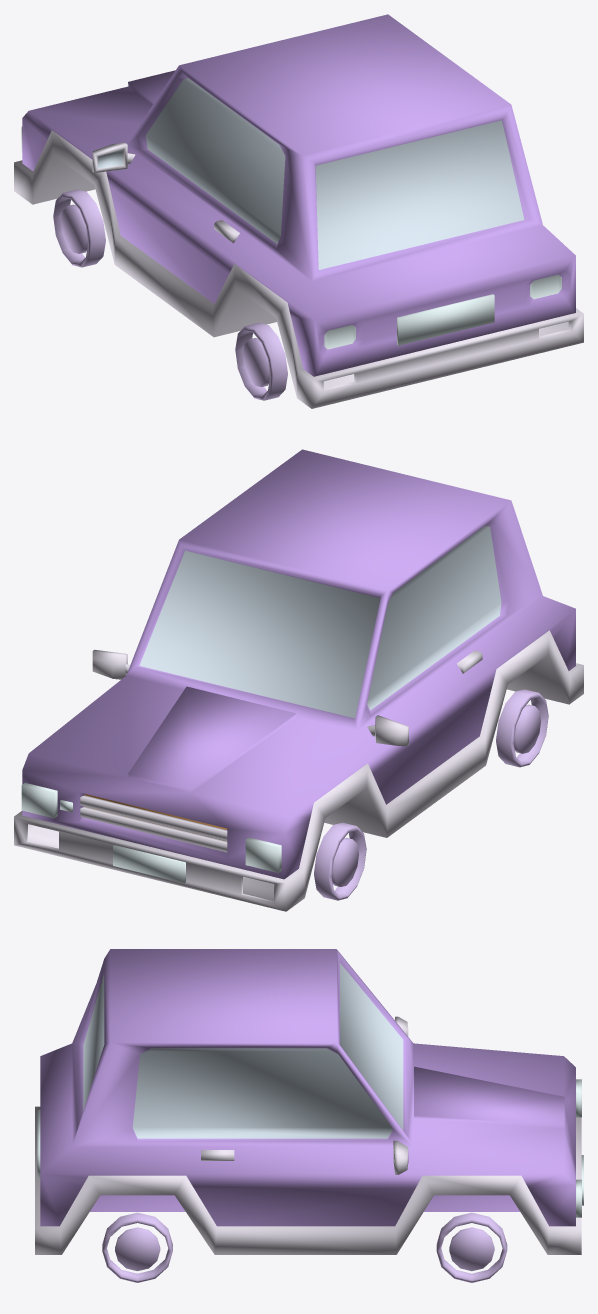
The model's file is Car_05.fbx.
3 views of the same model, one above another, from view 1: azimuth 30°, elevation 25°; view 2: azimuth 150°, elevation 25°; view 3: azimuth 270°, elevation 25° (orthographic). The views are drawn at different scales.
Visible parts, largest first — view 1: CarB_T.001; view 2: CarB_T.001; view 3: CarB_T.001.
Boxes of the visible parts, box(x1,y1,x2,y2) form: CarB_T.001: box(14, 14, 583, 408); CarB_T.001: box(14, 449, 583, 911); CarB_T.001: box(35, 949, 583, 1282).
Size of the model in its own units: 84.05 by 67.53 by 144.
Materials: 1 (1 with a texture image).
